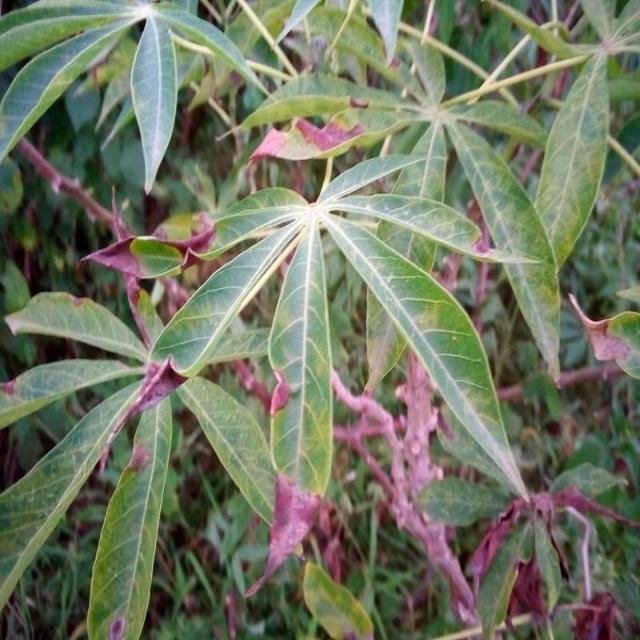cassava leaf: (2, 1, 638, 637), (149, 150, 530, 516)
